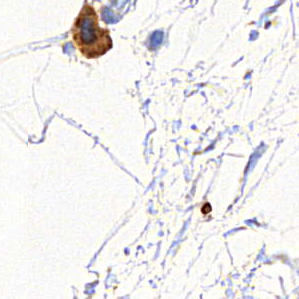Lymphocyte: (70, 5, 114, 59)
